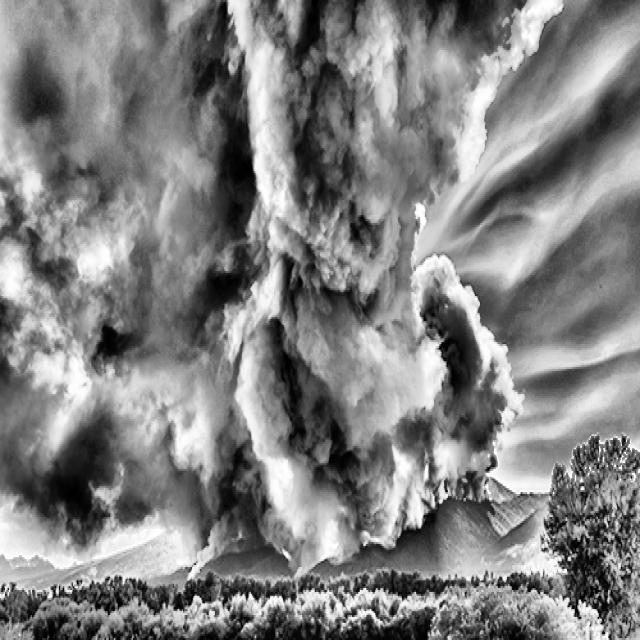fire: (170, 394, 514, 578)
